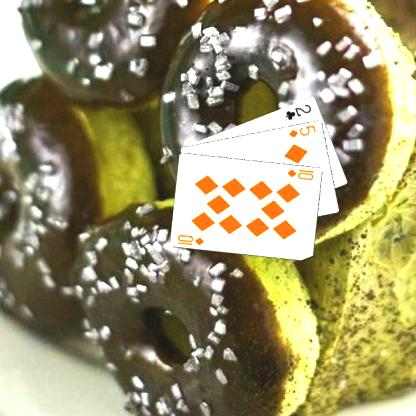10D: (174, 231, 206, 247), (284, 167, 316, 181)
2C: (282, 101, 313, 122)
5D: (286, 122, 317, 139)
